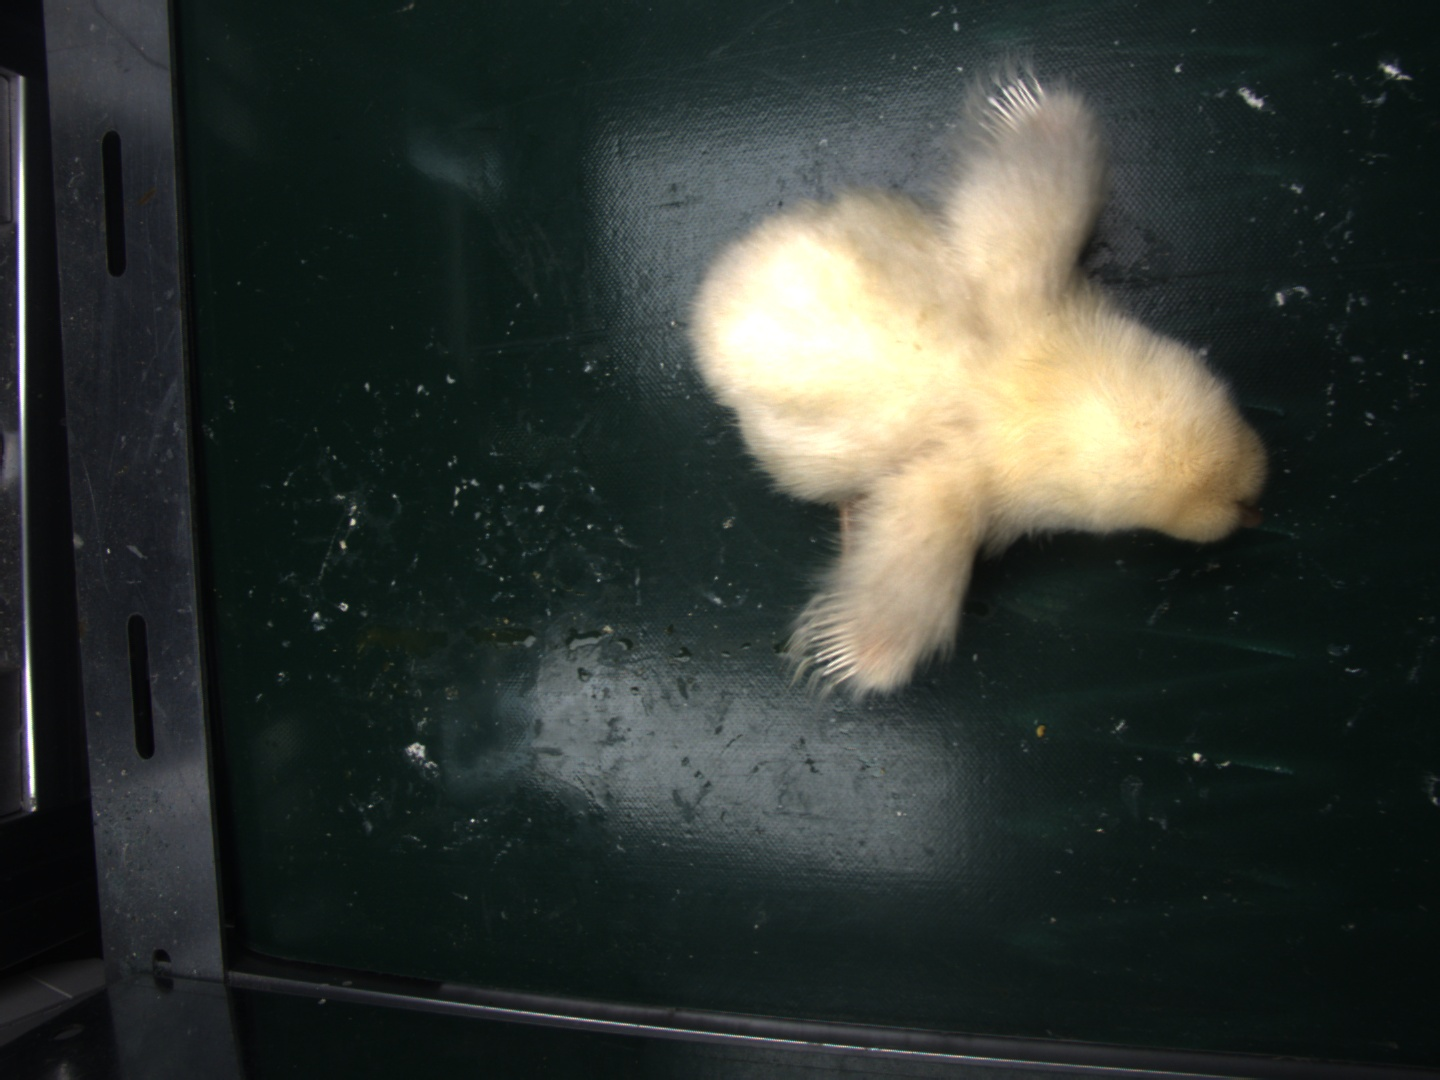male: (805, 594, 861, 687), (983, 78, 1045, 138)
